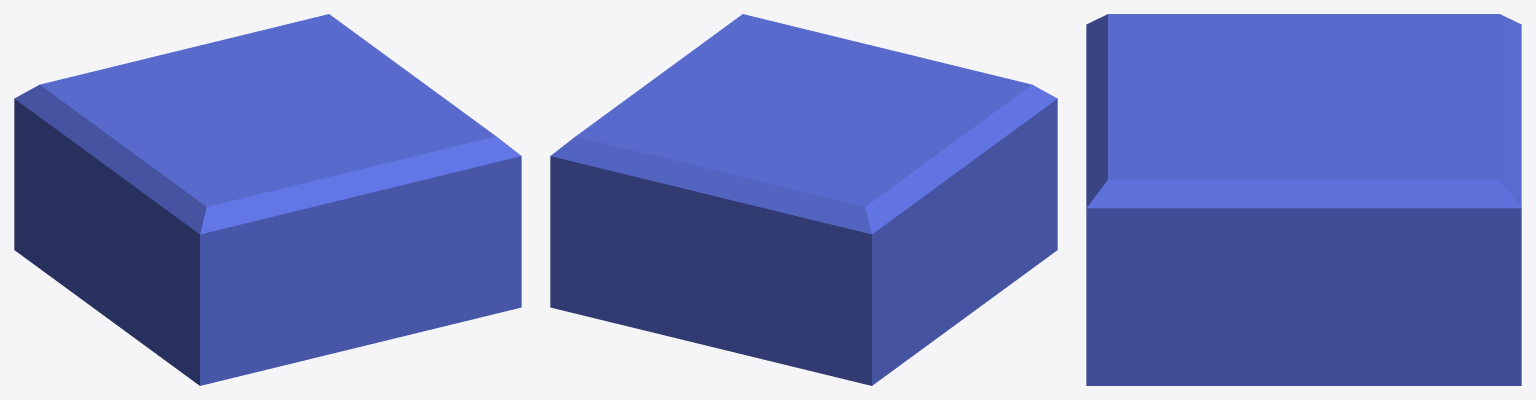
The model's file is BtnSqu02.fbx.
3 views of the same model, side by side, from view 1: azimuth 30°, elevation 25°; view 2: azimuth 150°, elevation 25°; view 3: azimuth 270°, elevation 25° (orthographic). The views are drawn at different scales.
Visible parts, largest first — view 1: BtnSqu02; view 2: BtnSqu02; view 3: BtnSqu02.
Boxes of the visible parts, x1,y1,x2,y2 form: BtnSqu02: [14, 14, 521, 385]; BtnSqu02: [550, 14, 1057, 385]; BtnSqu02: [1086, 14, 1521, 385].
Size of the model in its own units: 2 by 1 by 2.
